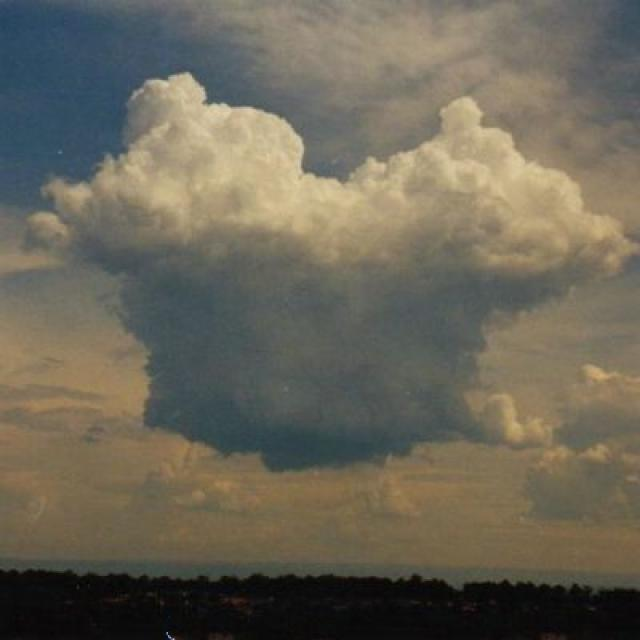Cs: (38, 74, 634, 476)
